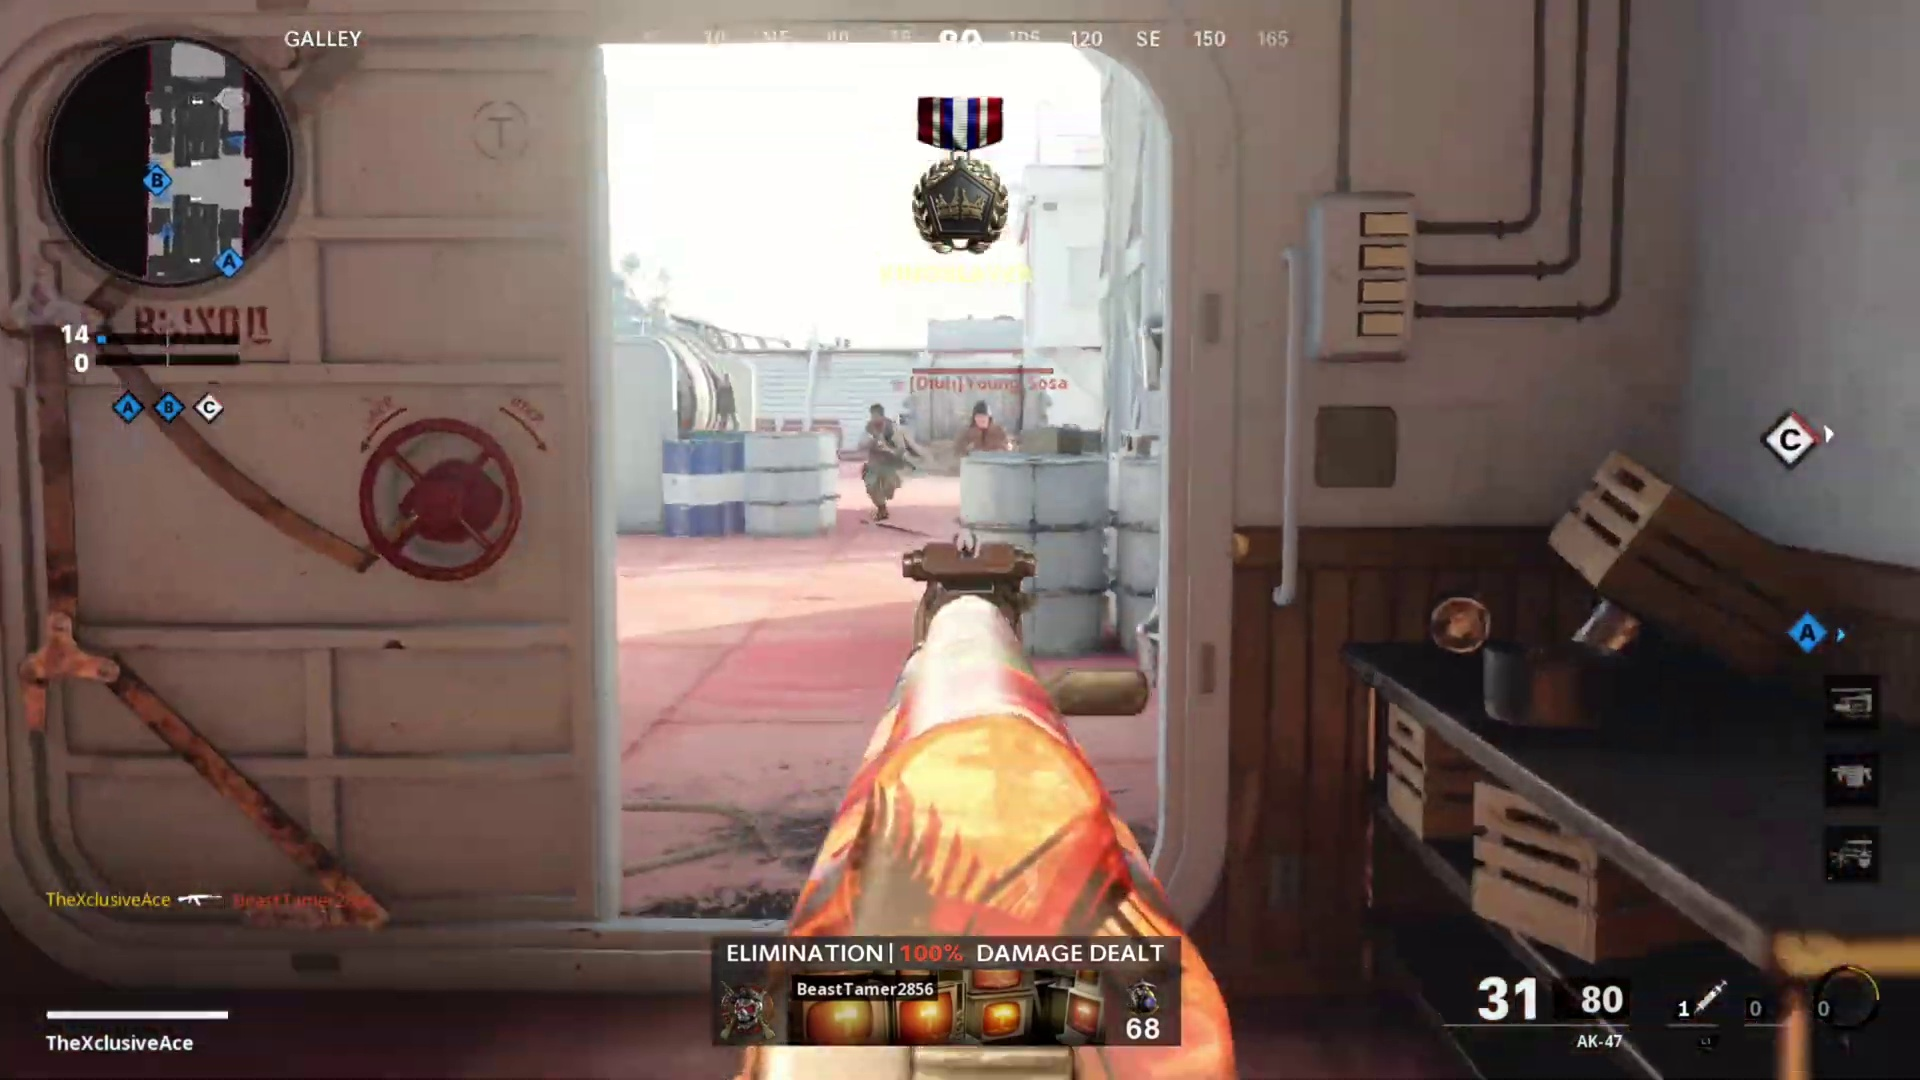head: (966, 399, 991, 434), (865, 403, 887, 431)
person: (855, 401, 918, 523), (950, 401, 1006, 459)
